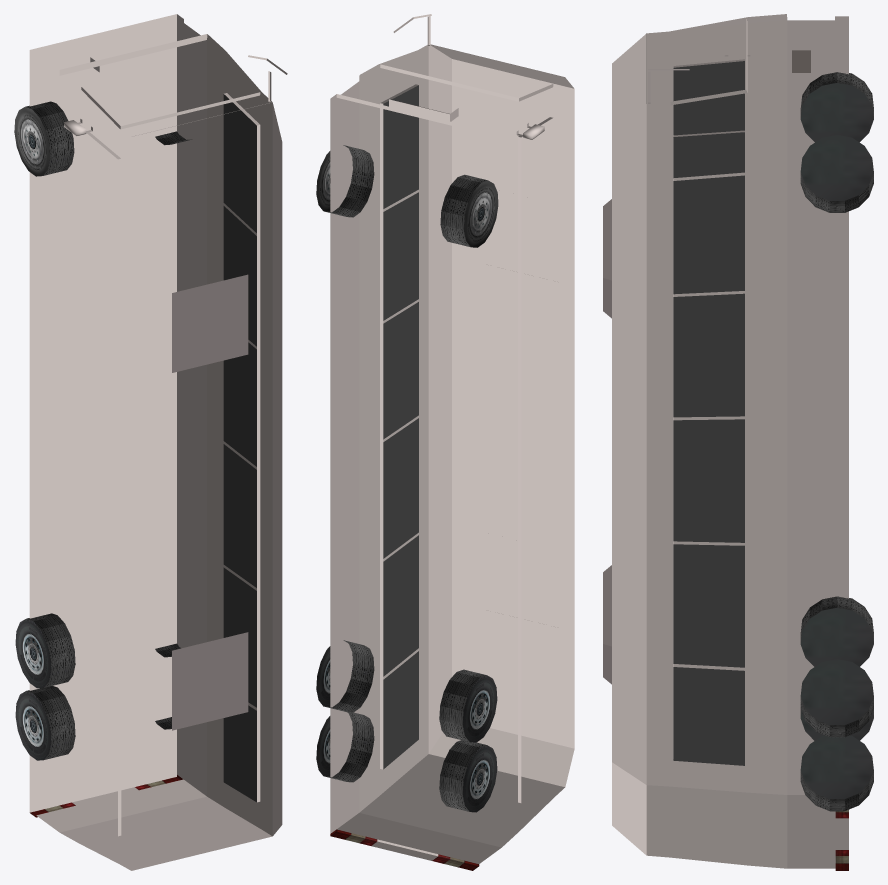
The model's file is bus.gltf.
3 renders of one model, left to right at view 1: azimuth 30°, elevation 25°; view 2: azimuth 150°, elevation 25°; view 3: azimuth 270°, elevation 25°, orthographic. The views are drawn at different scales.
Visible parts, largest first — view 1: Cube_041, Plane_004, Plane_003, WheelRL014, WheelRL016, WheelRL012; view 2: Cube_041, WheelRL014, WheelRL012, WheelRL016, WheelRL013, WheelRL011, WheelRL015; view 3: Cube_041, WheelRL013, WheelRL011, WheelRL015, WheelRL014, WheelRL012, Plane_003, Plane_004.
Boxes of the visible parts, x1=… form: Cube_041: x1=29, y1=14, x2=282, y2=870; Plane_004: x1=172, y1=274, x2=248, y2=372; Plane_003: x1=172, y1=632, x2=248, y2=730; WheelRL014: x1=15, y1=613, x2=75, y2=688; WheelRL016: x1=15, y1=686, x2=75, y2=760; WheelRL012: x1=14, y1=101, x2=74, y2=176; Cube_041: x1=330, y1=44, x2=574, y2=870; WheelRL014: x1=439, y1=669, x2=497, y2=742; WheelRL012: x1=440, y1=174, x2=498, y2=247; WheelRL016: x1=439, y1=740, x2=497, y2=812; WheelRL013: x1=316, y1=640, x2=374, y2=712; WheelRL011: x1=316, y1=145, x2=374, y2=217; WheelRL015: x1=316, y1=712, x2=374, y2=782; Cube_041: x1=612, y1=14, x2=848, y2=870; WheelRL013: x1=800, y1=659, x2=873, y2=737; WheelRL011: x1=800, y1=135, x2=873, y2=212; WheelRL015: x1=800, y1=735, x2=873, y2=811; WheelRL014: x1=800, y1=596, x2=873, y2=666; WheelRL012: x1=800, y1=72, x2=873, y2=142; Plane_003: x1=603, y1=565, x2=611, y2=684; Plane_004: x1=603, y1=199, x2=611, y2=318.
Size of the model in its own units: 0.7156 by 3.07 by 0.9448.
9 materials, 2 textured.
